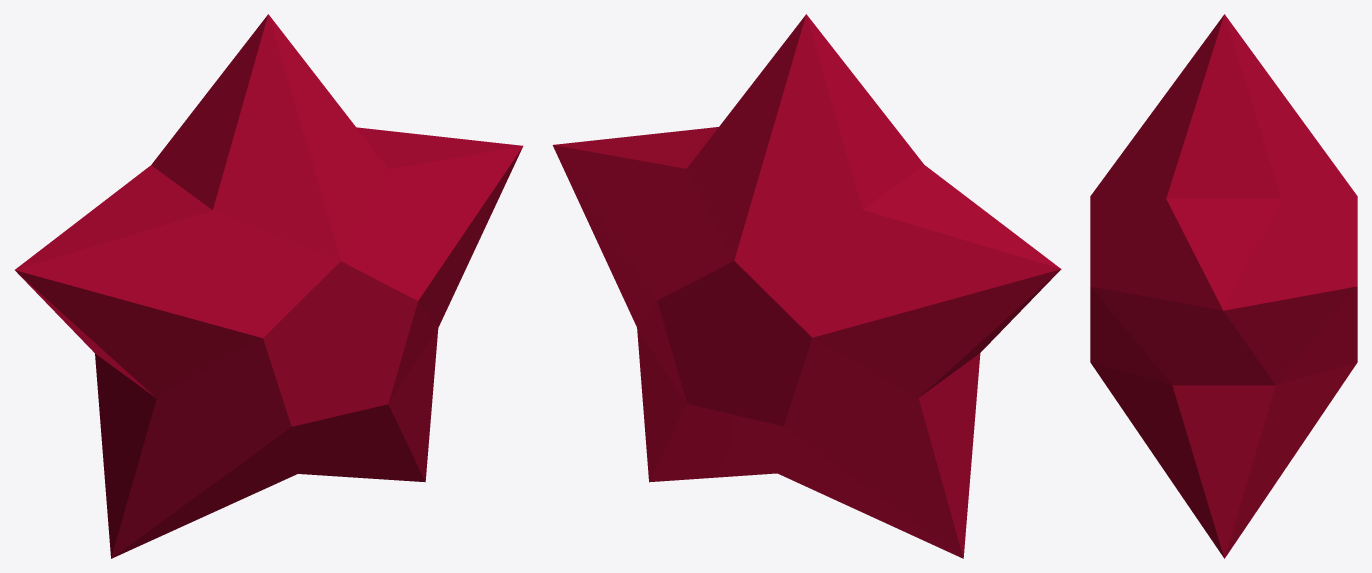
File: rubystar.obj
3 renders of one model, left to right at view 1: azimuth 30°, elevation 25°; view 2: azimuth 150°, elevation 25°; view 3: azimuth 270°, elevation 25°, orthographic. The views are drawn at different scales.
Parts seen in each view (by area): view 1: Ruby_Star_Diamond_Star_Circle.001; view 2: Ruby_Star_Diamond_Star_Circle.001; view 3: Ruby_Star_Diamond_Star_Circle.001.
Boxes of the visible parts, bbox=[...] form: Ruby_Star_Diamond_Star_Circle.001: bbox=[15, 14, 523, 558]; Ruby_Star_Diamond_Star_Circle.001: bbox=[552, 14, 1061, 558]; Ruby_Star_Diamond_Star_Circle.001: bbox=[1090, 14, 1357, 558].
Bounding box in the file's own units: 1.54 × 1.47 × 0.7516.
Materials: 1 (1 with a texture image).
